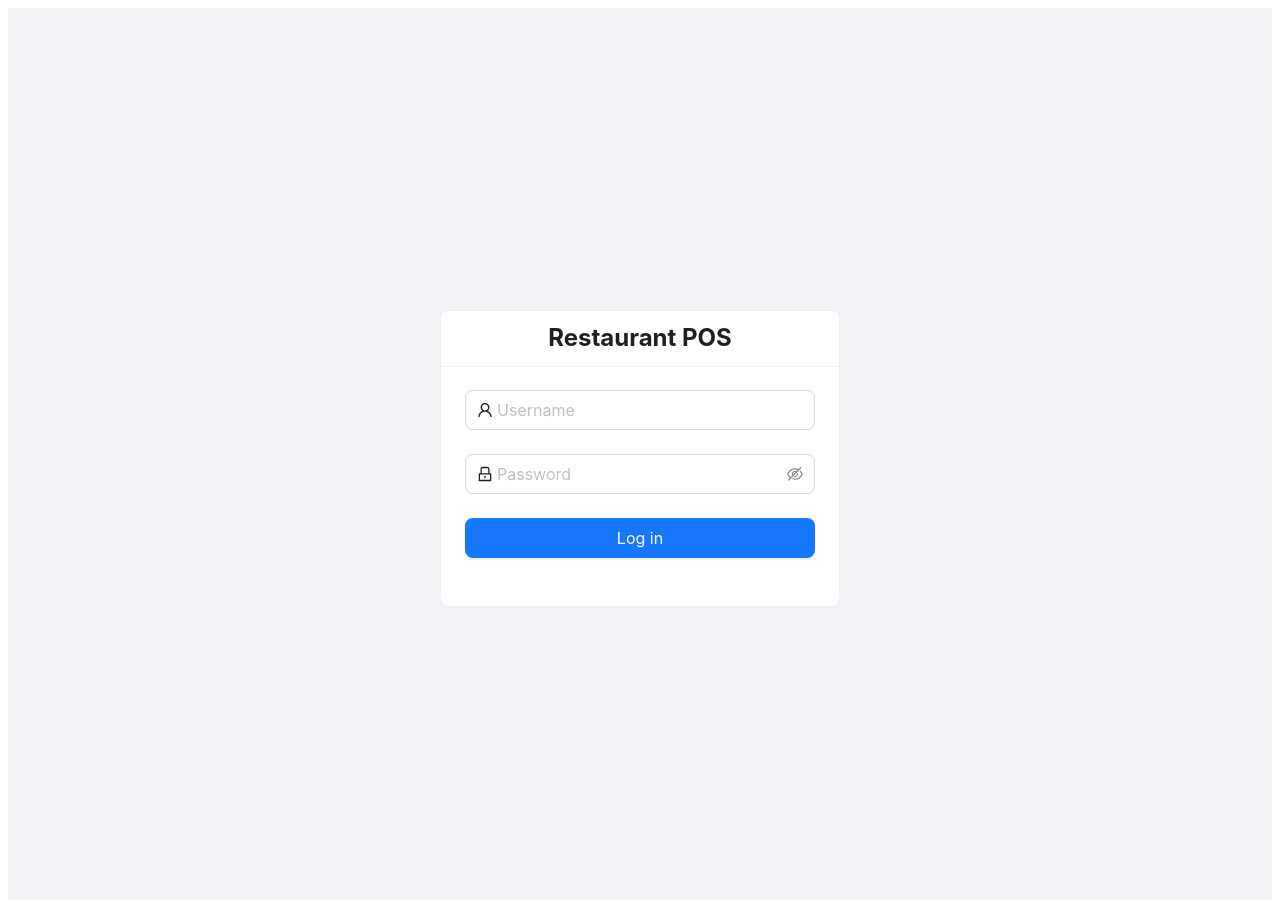
Scenario: LoginPage › shows validation errors for empty fields
The image size is (1280, 900).
Click the button "Log in".
click(640, 538)  # box [465,518,815,558]
(page scrolled)
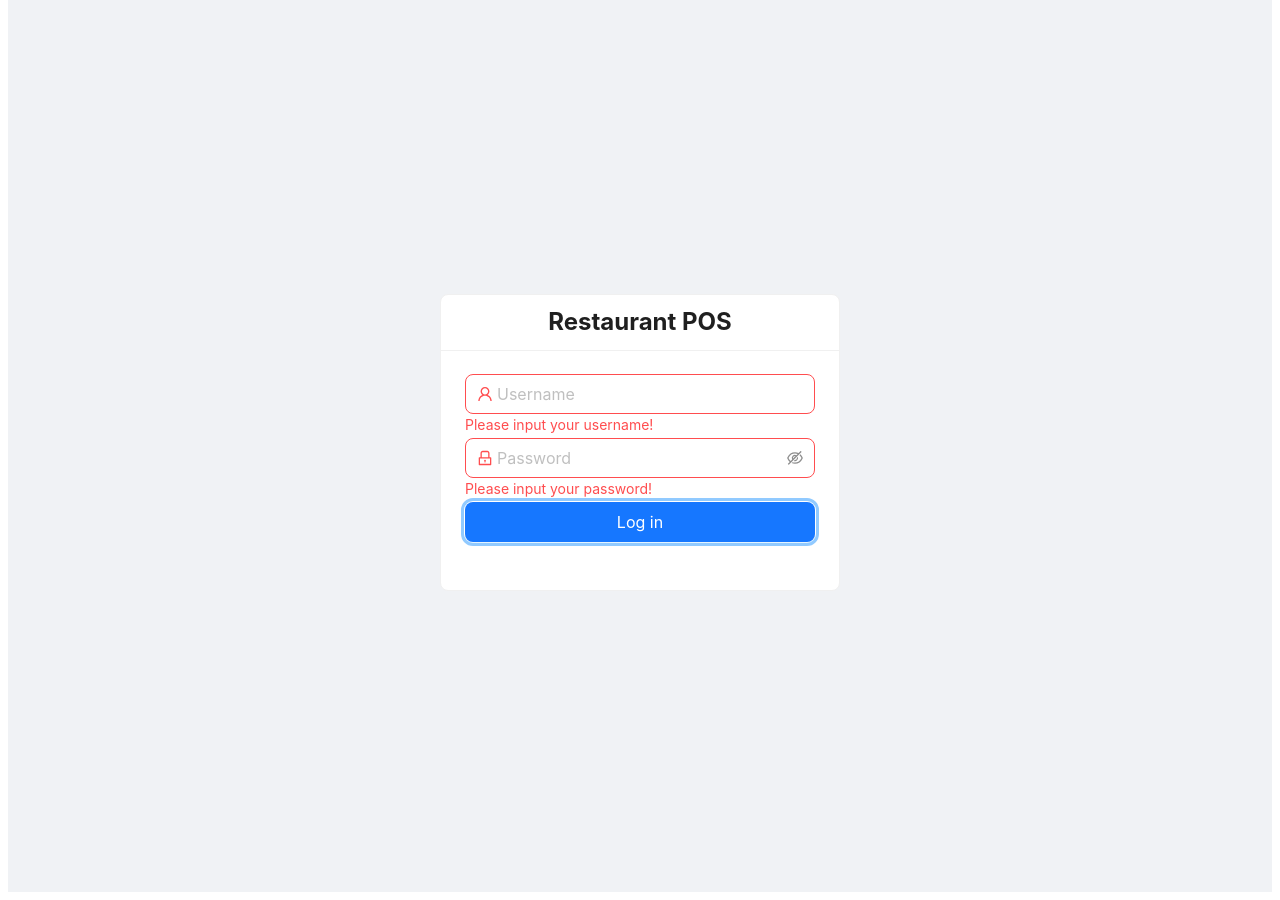
Now the text "Please input your username!" is shown, box [465,416,653,432]
Now the text "Please input your password!" is shown, box [465,480,652,496]
